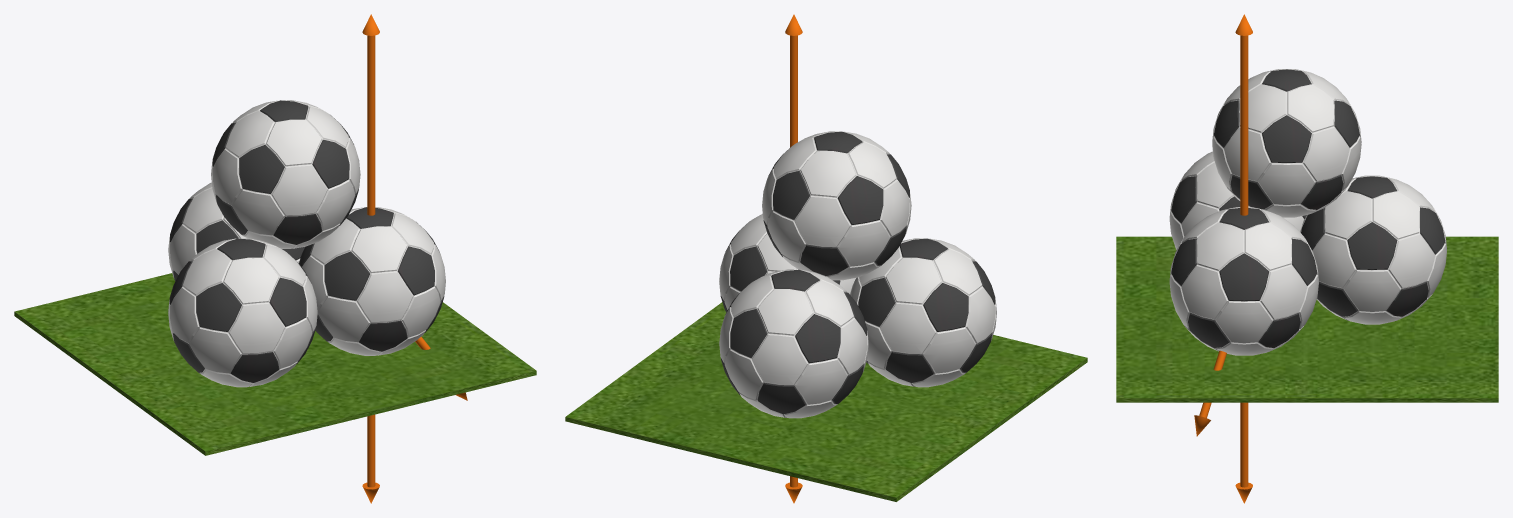
File: zuqiu02.gltf
3 views of the same model, side by side, from view 1: azimuth 30°, elevation 25°; view 2: azimuth 150°, elevation 25°; view 3: azimuth 270°, elevation 25° (orthographic).
Parts seen in each view (by area): view 1: 对象008, 对象009; view 2: 对象008, 对象009; view 3: 对象008, 对象009.
Part boxes in pixels (box(x1,y1,x2,y2)): 对象008: box(14, 100, 536, 455); 对象009: box(362, 14, 467, 503); 对象008: box(565, 131, 1087, 501); 对象009: box(785, 14, 802, 503); 对象008: box(1116, 69, 1498, 402); 对象009: box(1194, 14, 1252, 503).
Size of the model in its own units: 80 by 113 by 80.
2 materials, 2 textured.
